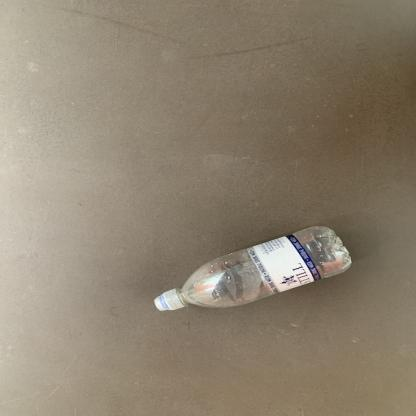trash: (153, 223, 354, 314)
